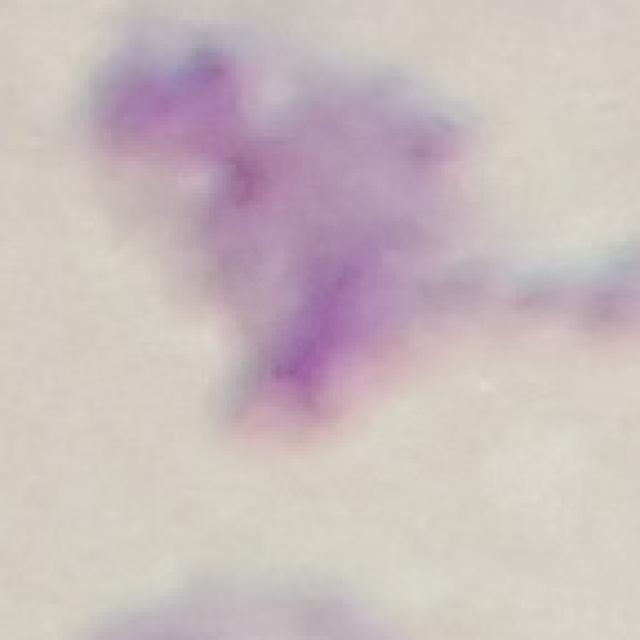non-sperm: (81, 38, 502, 429)
